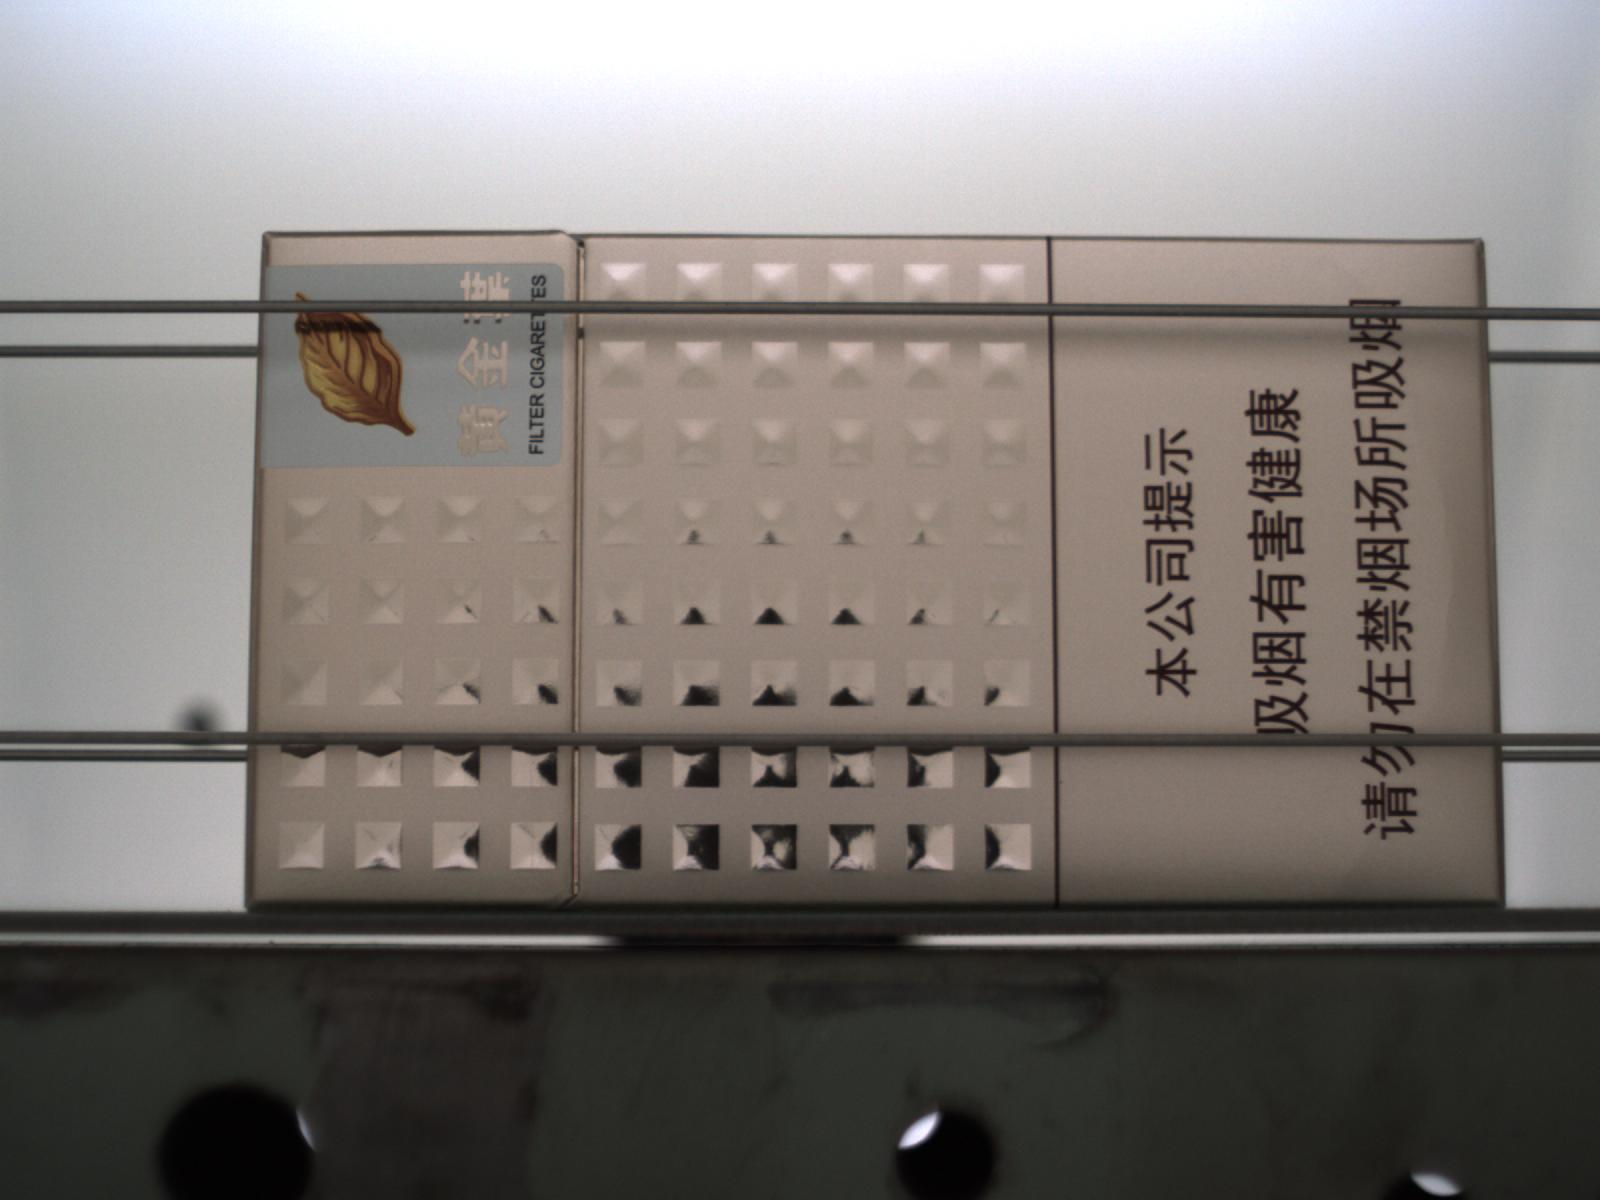crease: (1419, 449, 1461, 655)
